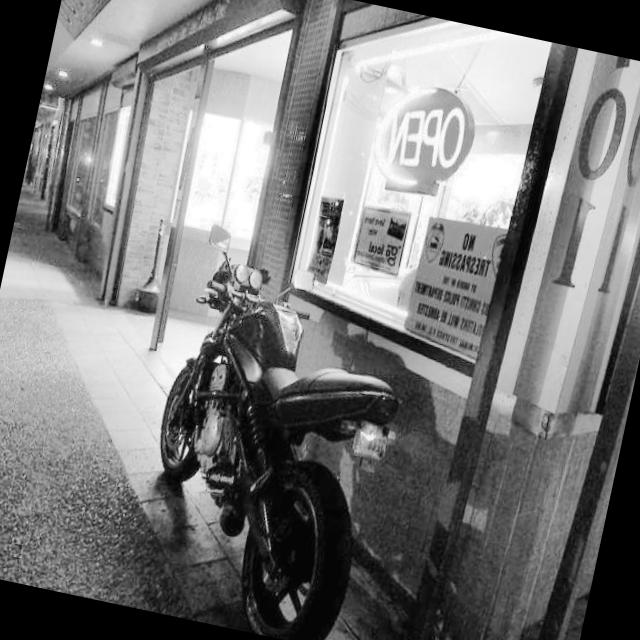Motorcycle: (113, 231, 436, 640)
